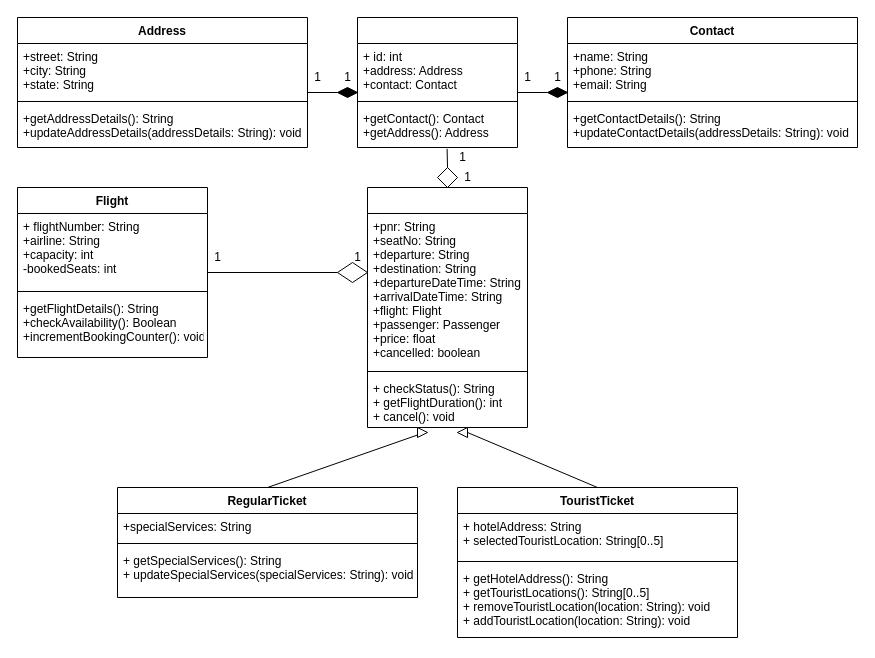
Some shapes in this 875 by 658 pixel diagram are drawn without their labels. The box of each missing label's shape, as (x1, y1, x2, y2) in pixels:
Passenger: (356, 16, 518, 148)
Ticket: (366, 186, 528, 428)
